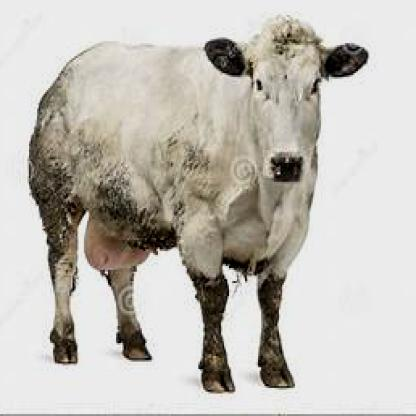cow: (26, 15, 369, 394)
